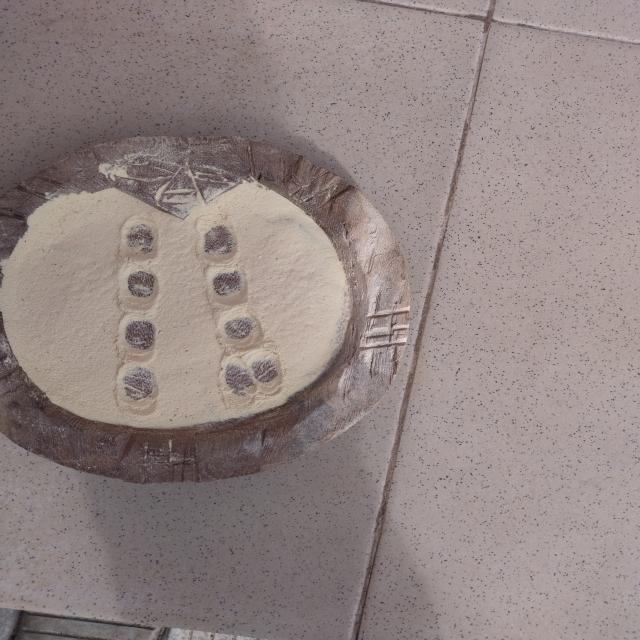double: (218, 348, 287, 410)
single: (102, 363, 168, 417), (110, 315, 170, 364), (112, 262, 162, 314), (211, 305, 269, 349), (193, 213, 241, 266), (203, 260, 253, 308), (115, 214, 163, 262)
